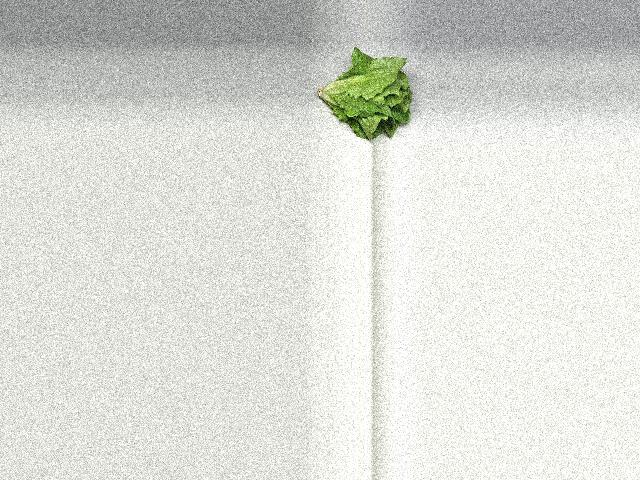lettuce: (309, 49, 416, 145)
